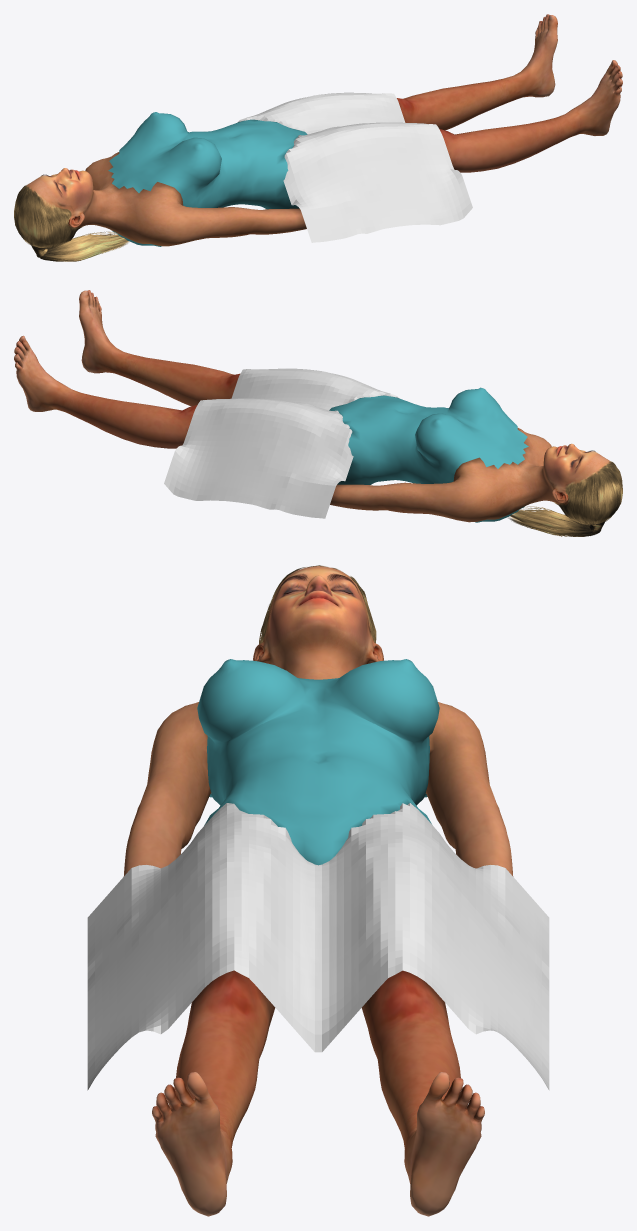
The model's file is kundin_lie_k9.glb.
The picture shows the model from 3 angles, top to bottom: view 1: azimuth 30°, elevation 25°; view 2: azimuth 150°, elevation 25°; view 3: azimuth 270°, elevation 25°; orthographic projection. The views are drawn at different scales.
Visible parts, largest first — view 1: body, robe, top, hair; view 2: body, robe, top, hair; view 3: robe, body, top.
Boxes of the visible parts, box(x1,y1,x2,y2) form: body: box(26, 14, 622, 246); robe: box(238, 92, 472, 242); top: box(108, 112, 307, 246); hair: box(14, 185, 128, 261); body: box(14, 290, 610, 522); robe: box(164, 368, 398, 518); top: box(329, 387, 528, 522); hair: box(508, 461, 622, 536); robe: box(87, 803, 549, 1090); body: box(123, 566, 513, 1216); top: box(197, 659, 439, 865).
Size of the model in its own units: 1.77 by 0.3186 by 0.62.
Materials: 5 (4 with a texture image).
